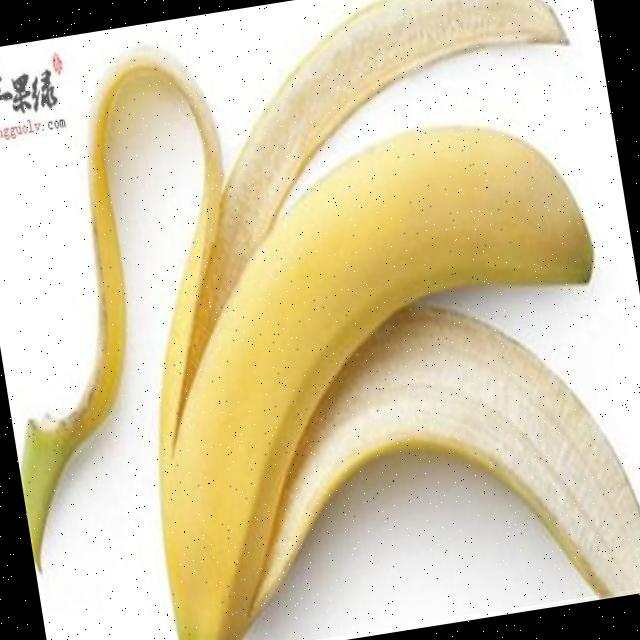banana-peel: (0, 0, 640, 640), (0, 33, 283, 574)
